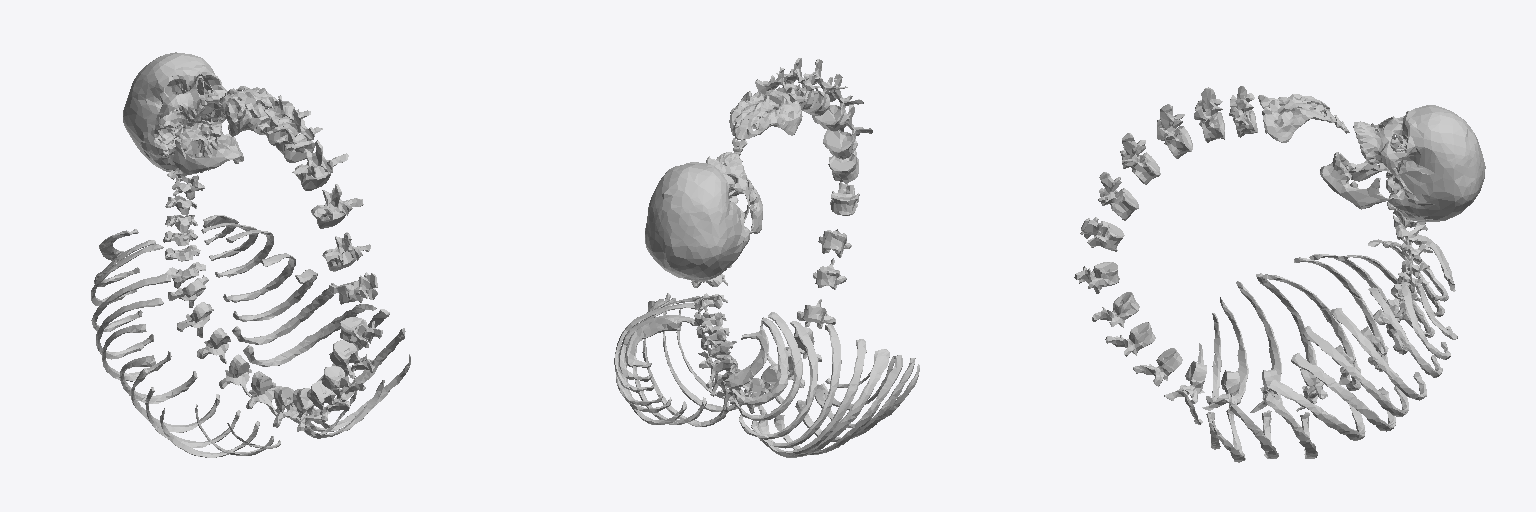
Rendered from skel-size-test-10.obj.
The picture shows the model from 3 angles: view 1: azimuth 30°, elevation 25°; view 2: azimuth 150°, elevation 25°; view 3: azimuth 270°, elevation 25°; orthographic projection.
Visible parts, largest first — view 1: Mandible; view 2: Mandible; view 3: Mandible.
Part boxes in pixels (x1,y1,x2,y2): Mandible: (91, 52, 410, 457); Mandible: (614, 58, 919, 457); Mandible: (1074, 86, 1485, 462).
Bounding box in the file's own units: 19.62 × 25.67 × 27.59.